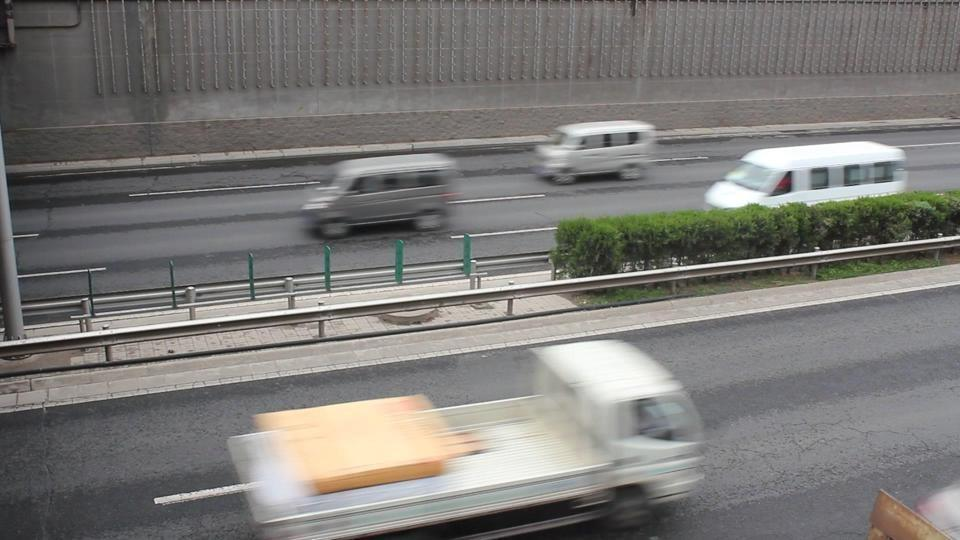car: (228, 337, 705, 537), (299, 153, 464, 240), (530, 119, 657, 185)
